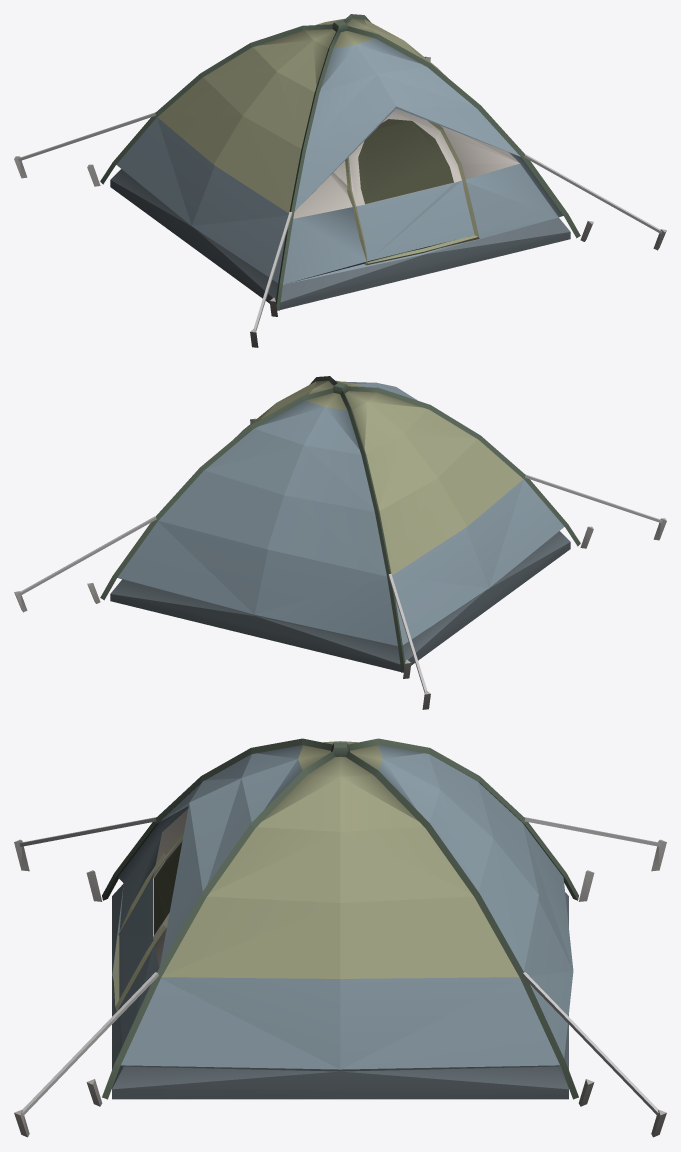
Rendered from dome.glb.
3 views of the same model, one above another, from view 1: azimuth 30°, elevation 25°; view 2: azimuth 150°, elevation 25°; view 3: azimuth 270°, elevation 25° (orthographic). The views are drawn at different scales.
Parts seen in each view (by area): view 1: dome; view 2: dome; view 3: dome.
Part boxes in pixels (x1,y1,x2,y2): dome: (14, 14, 666, 347); dome: (14, 376, 666, 709); dome: (14, 738, 666, 1137).
Size of the model in its own units: 3.9 by 1.7 by 3.9.
